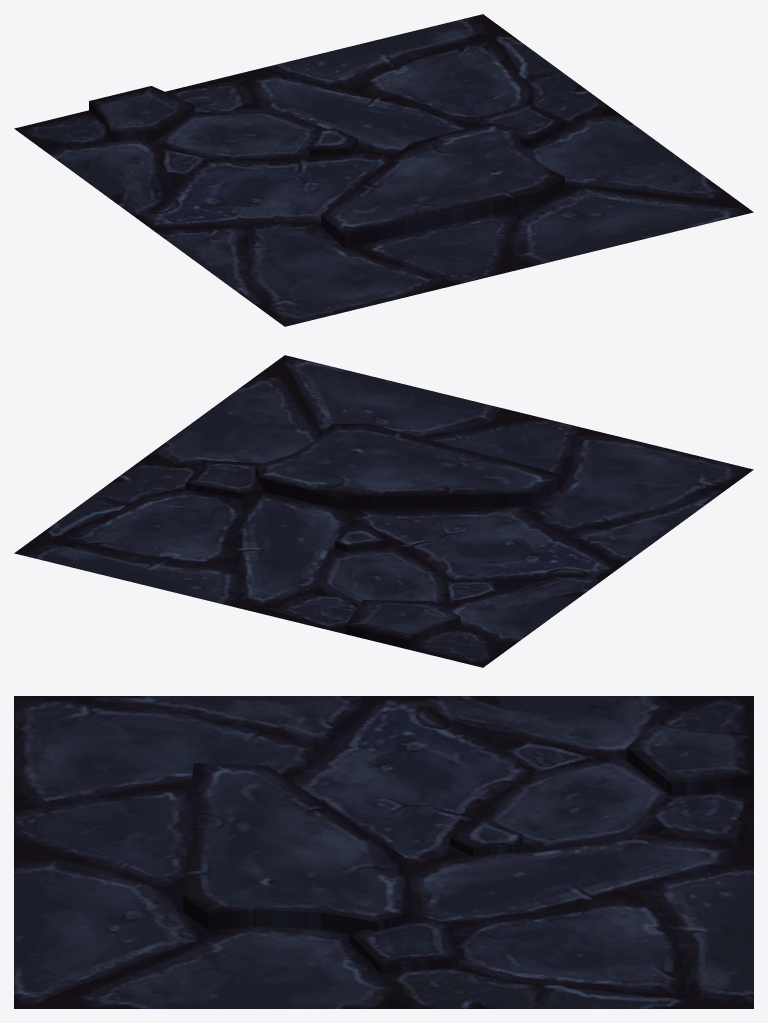
File: palace_floor_blank_07.fbx
3 views of the same model, one above another, from view 1: azimuth 30°, elevation 25°; view 2: azimuth 150°, elevation 25°; view 3: azimuth 270°, elevation 25° (orthographic). The views are drawn at different scales.
Parts seen in each view (by area): view 1: palace_tileset/palace_floor01_shadow_mat; view 2: palace_tileset/palace_floor01_shadow_mat; view 3: palace_tileset/palace_floor01_shadow_mat.
Boxes of the visible parts, box(x1,y1,x2,y2) form: palace_tileset/palace_floor01_shadow_mat: box(14, 14, 753, 326); palace_tileset/palace_floor01_shadow_mat: box(14, 355, 753, 667); palace_tileset/palace_floor01_shadow_mat: box(14, 696, 753, 1008).
Bounding box in the file's own units: 4 × 0.1 × 4.
